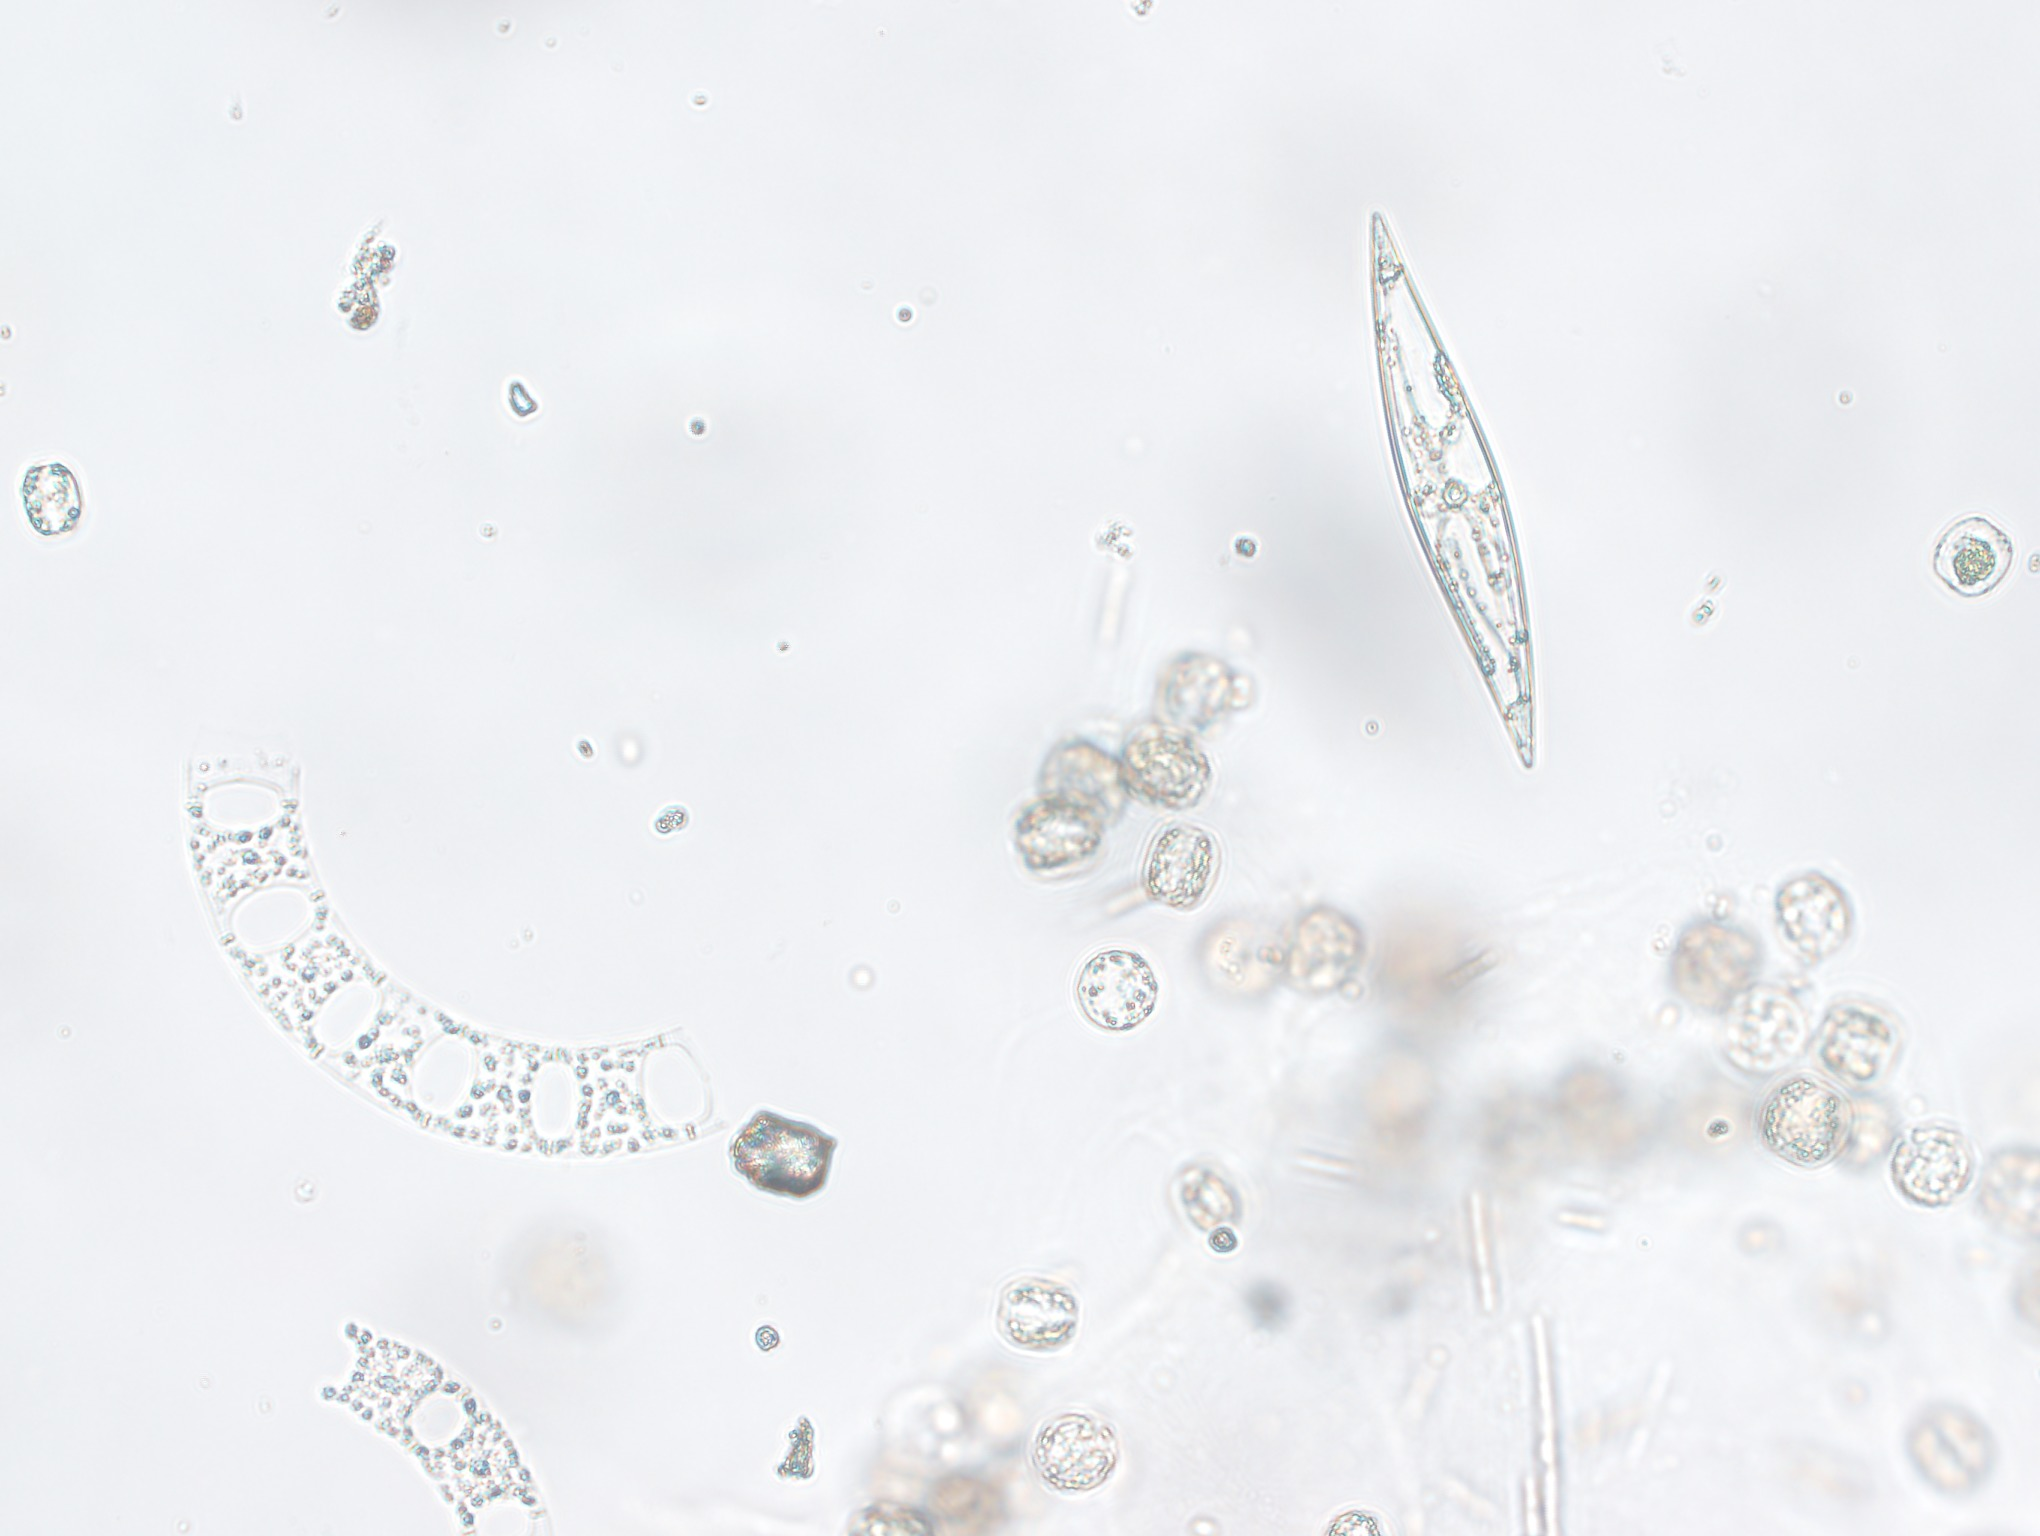eucampia: (160, 745, 719, 1163), (295, 1309, 552, 1534)
pleurosigma pelagicum: (1347, 200, 1584, 776)
